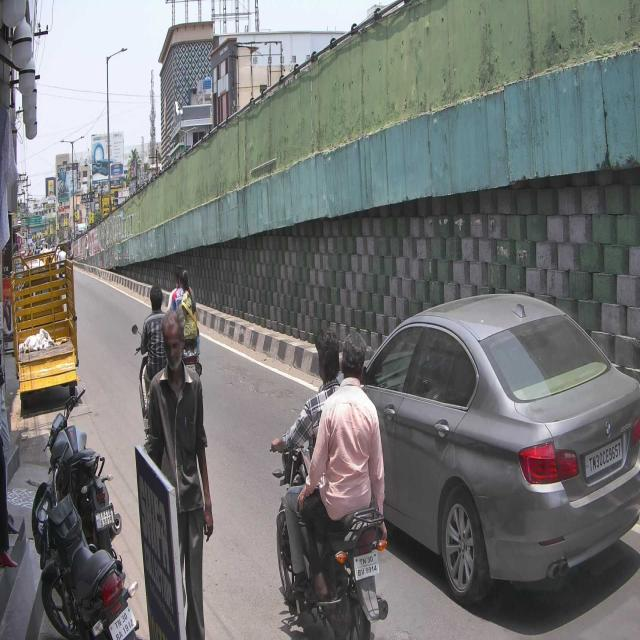double_rider: (268, 322, 392, 640)
